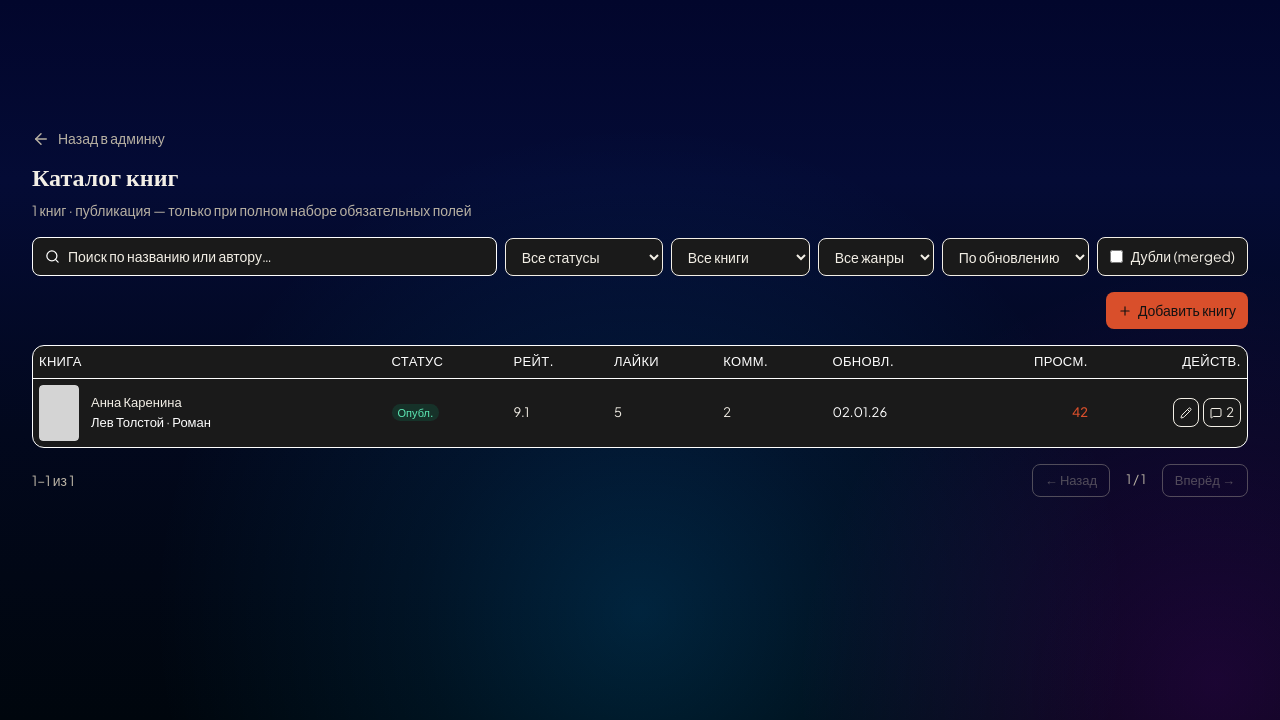
Test: AdminBooksPage (Фаза 7) › модалка комментариев открывается и показывает комментарии
Expected: the button "Анна Каренина" is shown, 91,393 -> 211,413
Click the button "2": (1222, 413) 1203,398 -> 1241,427
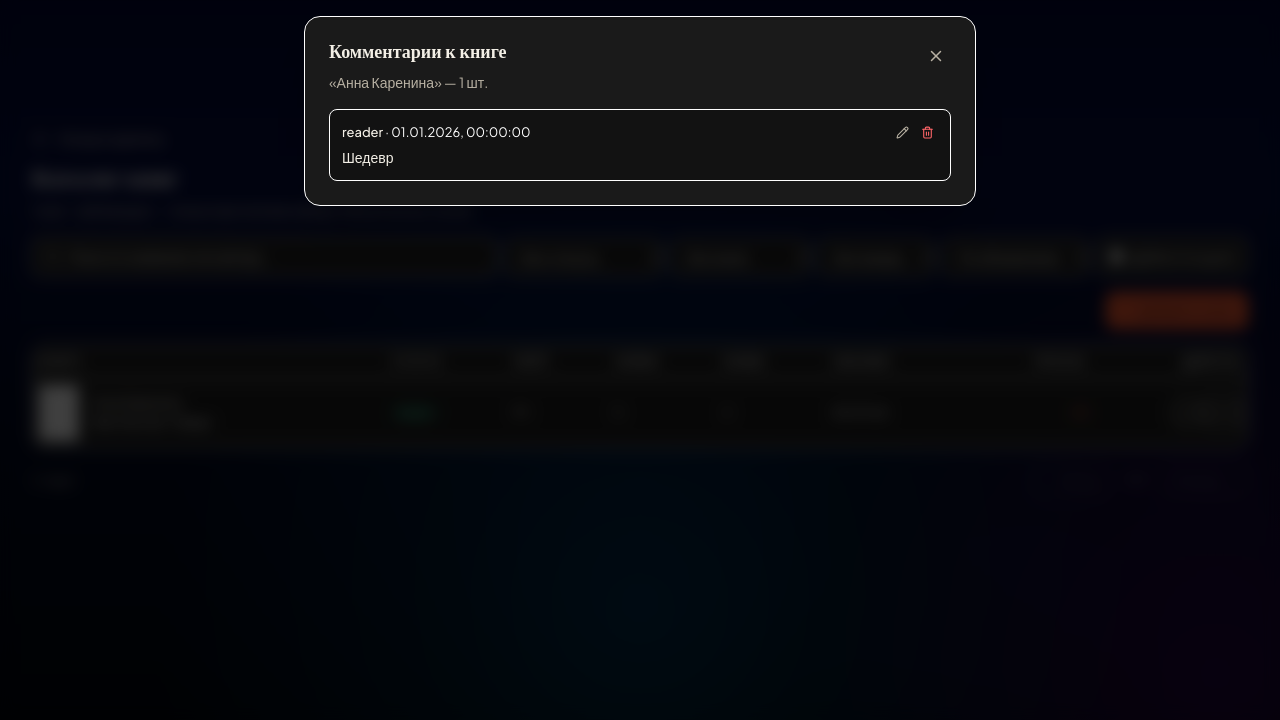
Now the text "Шедевр" is shown, box 342,148 -> 394,166
Now the text "reader" is shown, box 342,124 -> 383,140
